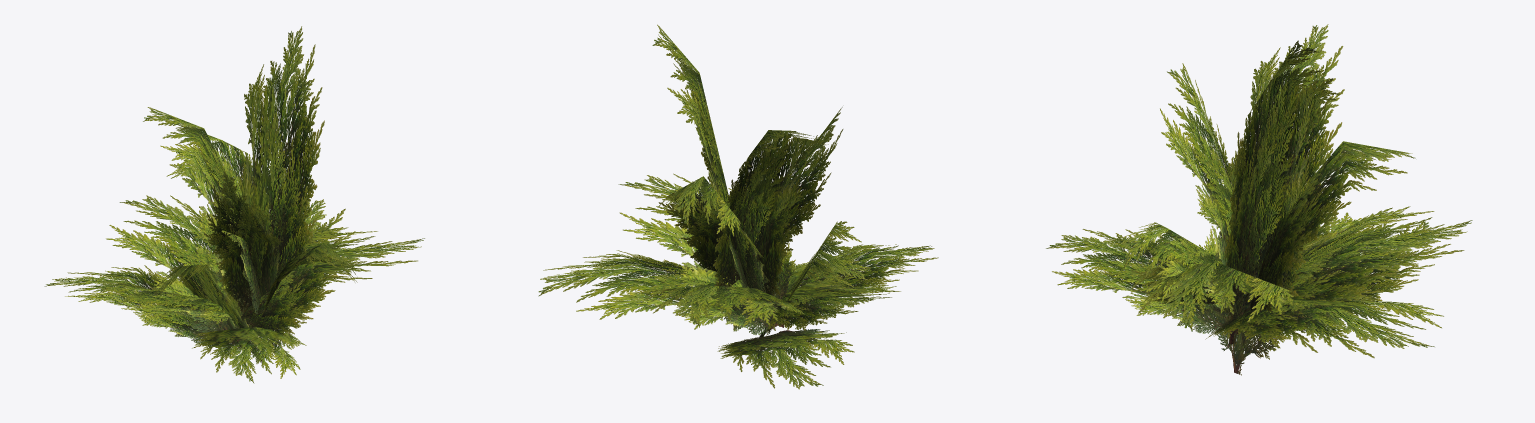
File: SM_bush_b.fbx
The picture shows the model from 3 angles, left to right: view 1: azimuth 30°, elevation 25°; view 2: azimuth 150°, elevation 25°; view 3: azimuth 270°, elevation 25°; orthographic projection. The views are drawn at different scales.
Visible parts, largest first — view 1: pPlane18; view 2: pPlane18; view 3: pPlane18.
Part boxes in pixels (x1,y1,x2,y2): pPlane18: (44,26,424,383); pPlane18: (538,24,938,389); pPlane18: (1046,24,1472,375).
Bounding box in the file's own units: 4.27 × 3.6 × 4.17.
1 material, 1 textured.
